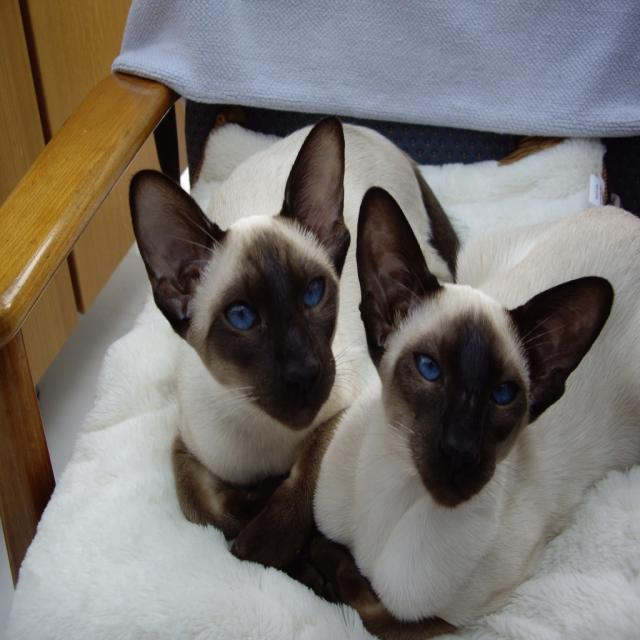Cat: (230, 202, 640, 639), (128, 113, 461, 541)
